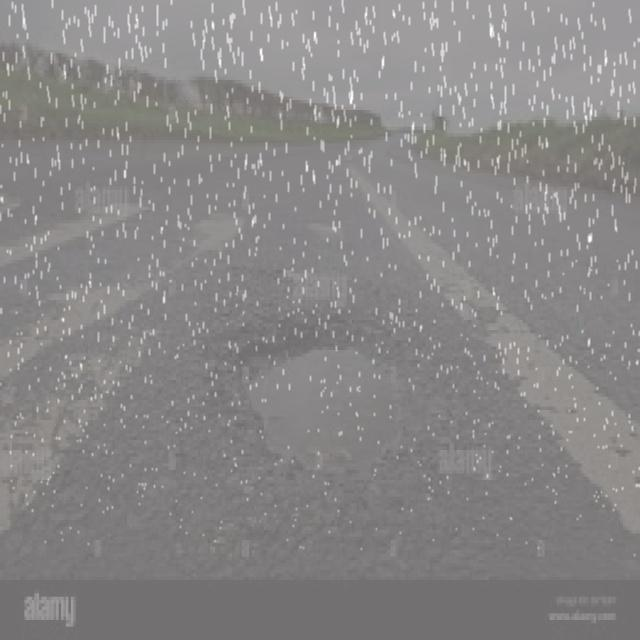Pothole: (229, 320, 428, 508), (0, 263, 162, 379), (0, 376, 98, 529), (0, 188, 143, 254), (192, 207, 261, 273)
